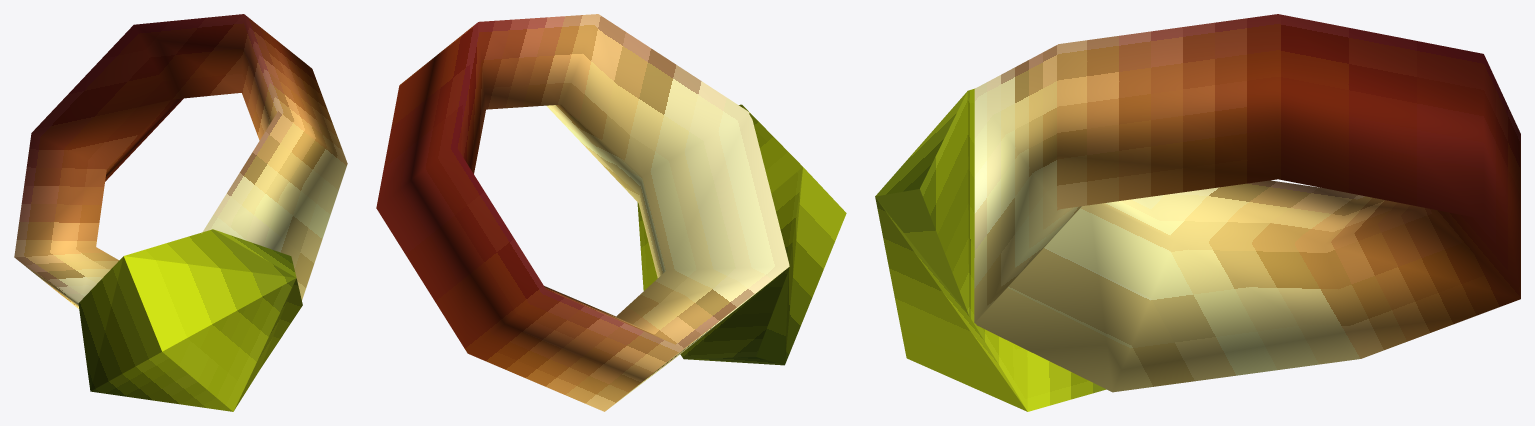
File: MagicRing00.glb
The picture shows the model from 3 angles, left to right: view 1: azimuth 30°, elevation 25°; view 2: azimuth 150°, elevation 25°; view 3: azimuth 270°, elevation 25°; orthographic projection. The views are drawn at different scales.
Parts seen in each view (by area): view 1: model_MagicRing00; view 2: model_MagicRing00; view 3: model_MagicRing00.
Part boxes in pixels (box(x1,y1,x2,y2)): model_MagicRing00: box(14, 14, 347, 411); model_MagicRing00: box(376, 14, 846, 411); model_MagicRing00: box(875, 14, 1520, 411).
Bounding box in the file's own units: 0.2135 × 0.2133 × 0.2653.
2 materials, 2 textured.
